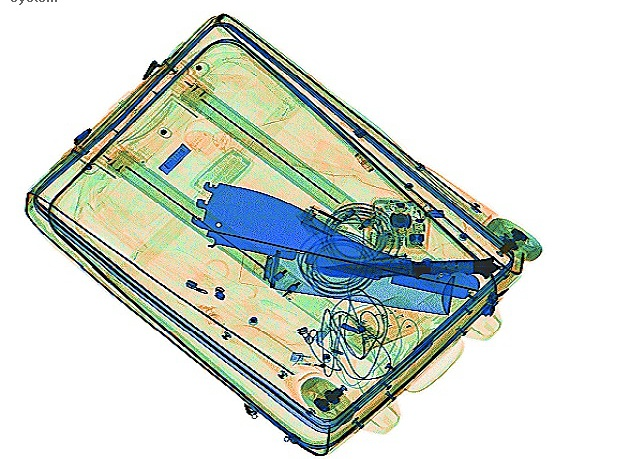knife: (315, 252, 502, 281)
lighter: (282, 342, 358, 372)
pressure: (236, 239, 456, 315)
